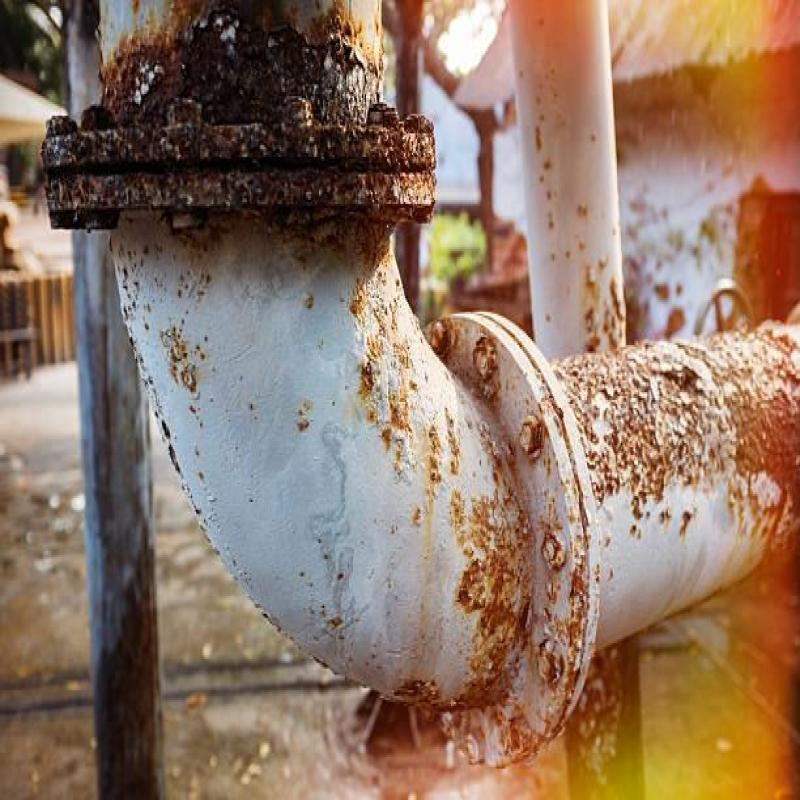corrosion: (43, 6, 458, 291)
